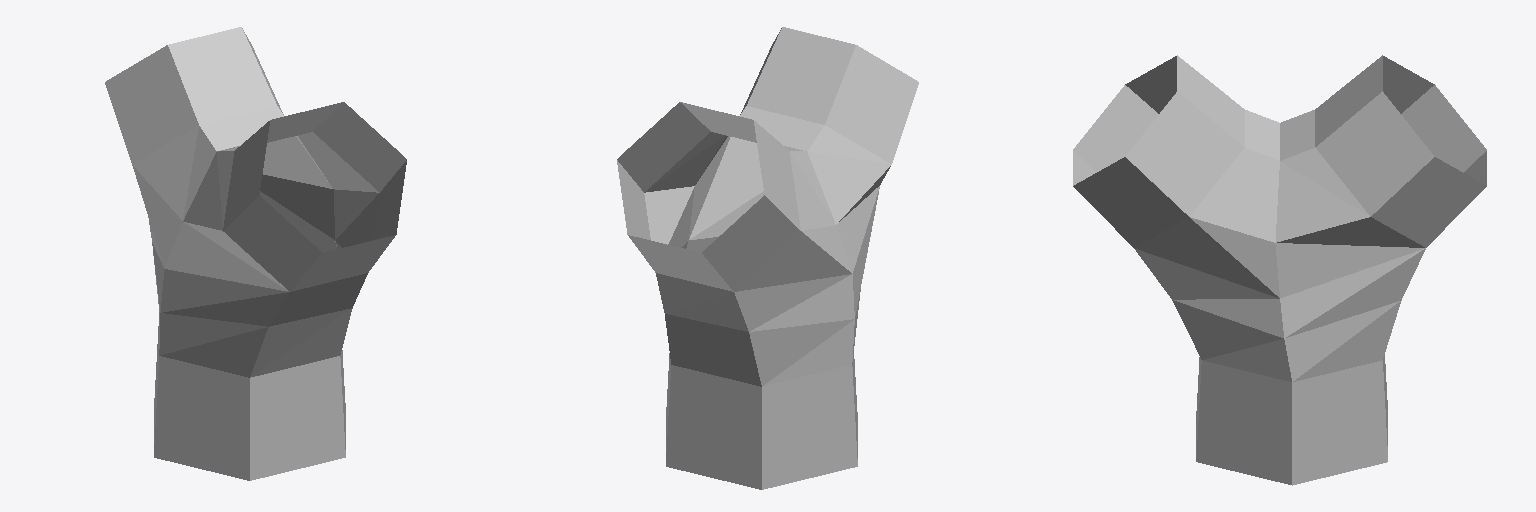
The model's file is YbranchLow.obj.
The picture shows the model from 3 angles: view 1: azimuth 30°, elevation 25°; view 2: azimuth 150°, elevation 25°; view 3: azimuth 270°, elevation 25°; orthographic projection.
Size of the model in its own units: 8 by 14.54 by 14.94.